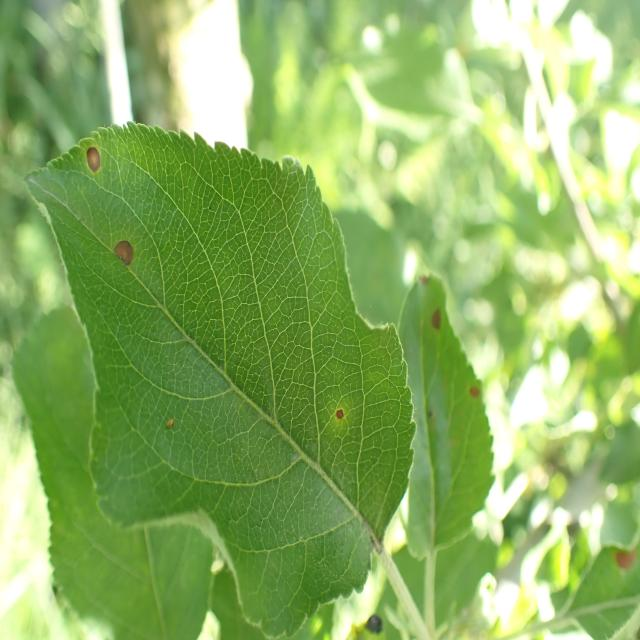Black Rot: (80, 136, 124, 207), (112, 223, 139, 292), (423, 295, 451, 357), (329, 383, 353, 451)
